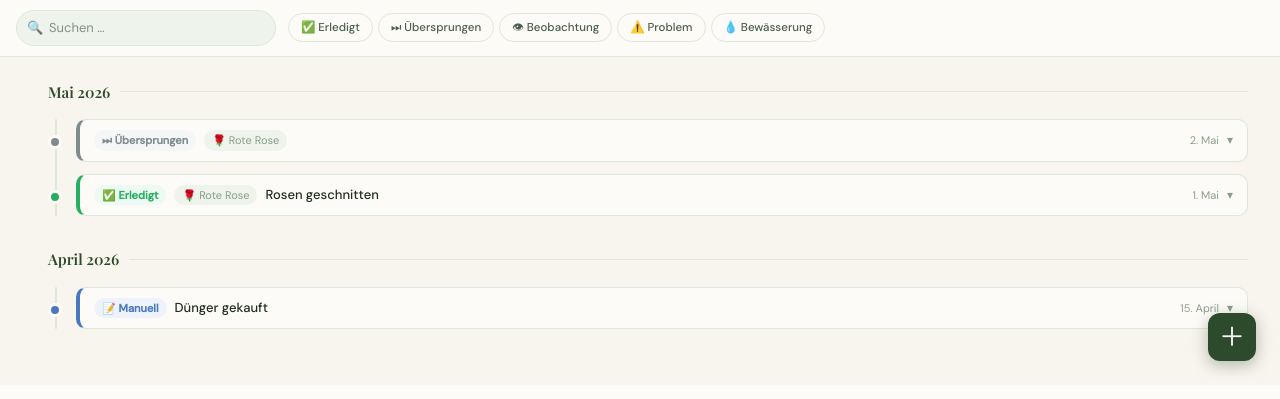
Scenario: JournalView — filter chips (AC #3) › clicking active chip again deactivates filter (shows all)
This screenshot has width=1280, height=399.
Click the button with test id "filter-chip-done": (330, 28) [288, 13, 373, 42]
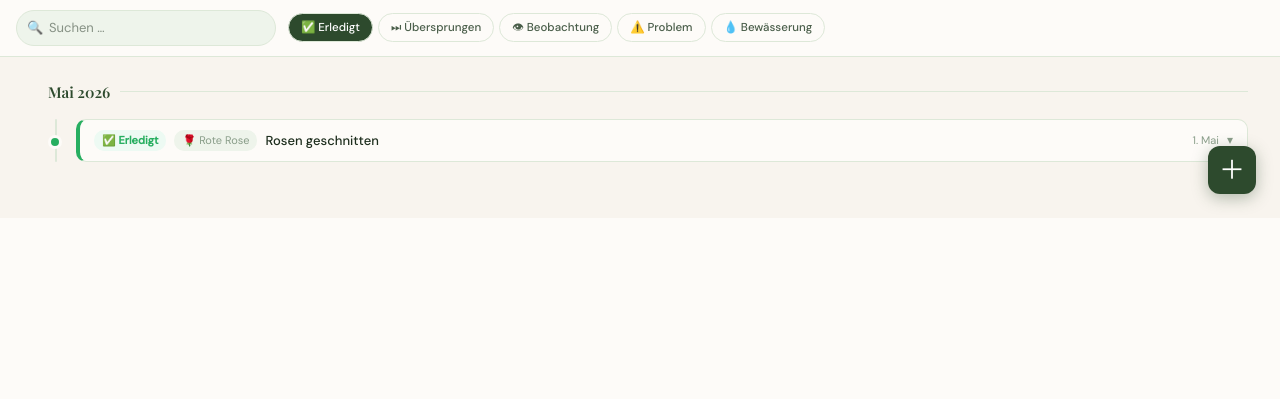
Click the button with test id "filter-chip-done": (330, 28) [288, 13, 373, 42]
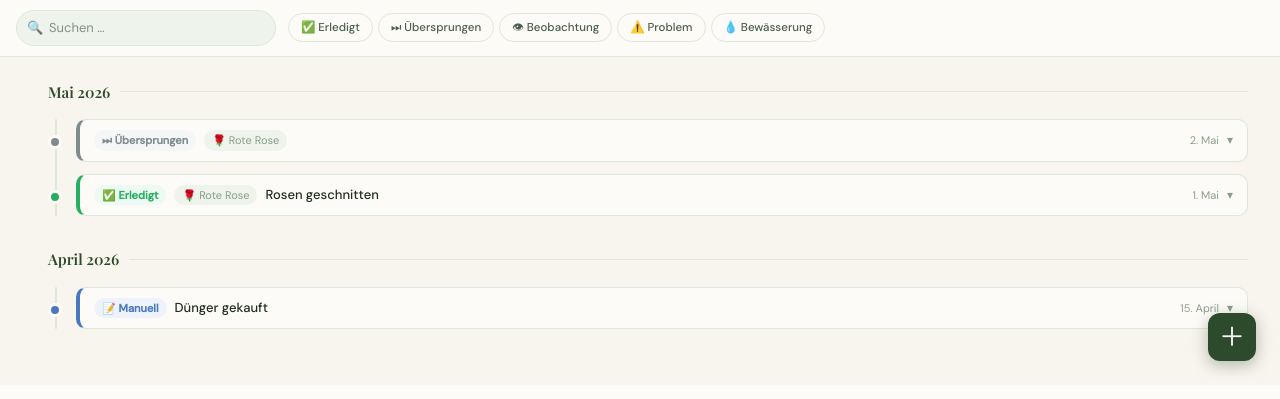
Check: the number of elements with test id "journal-entry" is 3, box [76, 119, 1248, 162]; [76, 174, 1248, 216]; [76, 286, 1248, 329]
